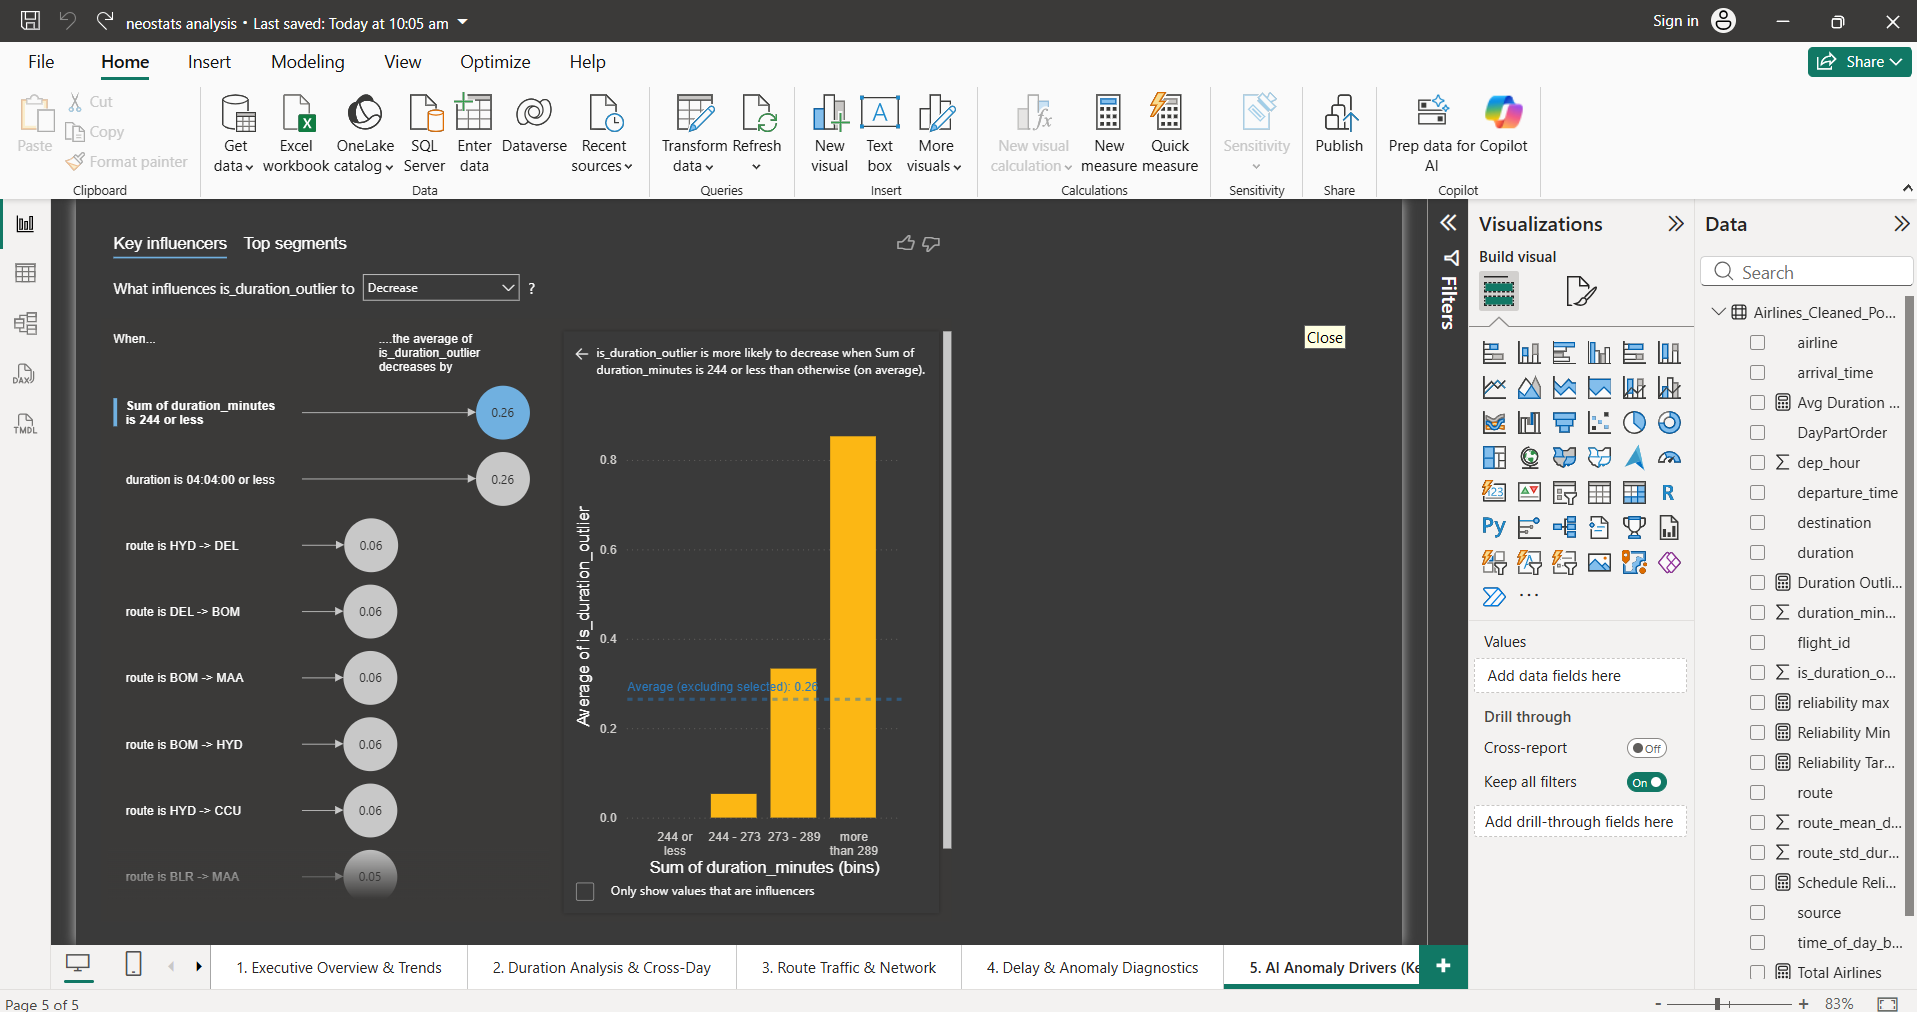

Layout of this report page (visuals, bound fields, positions):
{"tool":"powerbi","page":{"name":"5. AI Anomaly Drivers (Key Influencers)","canvas":[1280,720],"ordinal":4},"visuals":[{"type":"keyDriversVisual","fields":{"Target":["Airlines_Cleaned_PowerBI.is_duration_outlier"],"ExplainBy":["Airlines_Cleaned_PowerBI.time_of_day_bucket","Sum(Airlines_Cleaned_PowerBI.duration_minutes)","Sum(Airlines_Cleaned_PowerBI.dep_hour)","Airlines_Cleaned_PowerBI.route","Airlines_Cleaned_PowerBI.arrival_time","Airlines_Cleaned_PowerBI.airline","Airlines_Cleaned_PowerBI.source","Airlines_Cleaned_PowerBI.destination","Airlines_Cleaned_PowerBI.duration","Airlines_Cleaned_PowerBI.DayPartOrder"]},"box":[19.4,20.8,830.6,681.9],"z":0}]}

Visuals, with their boxes on the page's 1280x720 design canvas (x1, y1, x2, y2). These are canvas units, not pixel positions in the 1917x1012 screenshot, which may show the page scaled, cropped or inside an application window:
keyDriversVisual - Airlines_Cleaned_PowerBI.is_duration_outlier x Airlines_Cleaned_PowerBI.time_of_day_bucket: (left=19, top=21, right=850, bottom=703)
